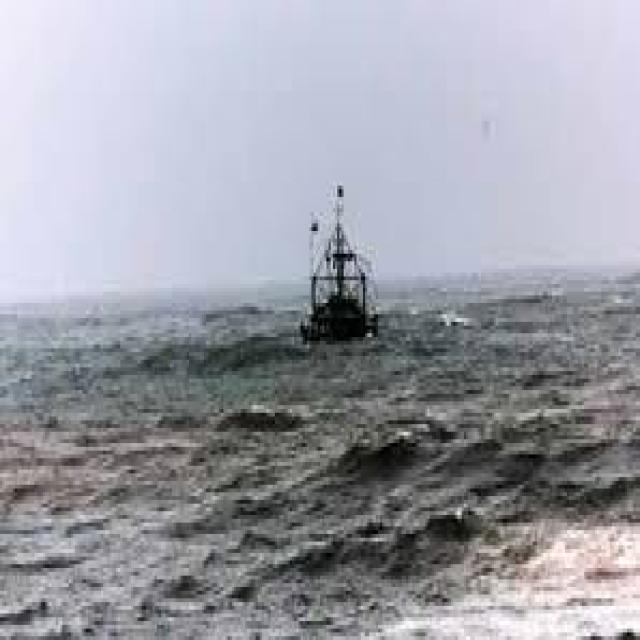fishing boat: (296, 196, 382, 358)
